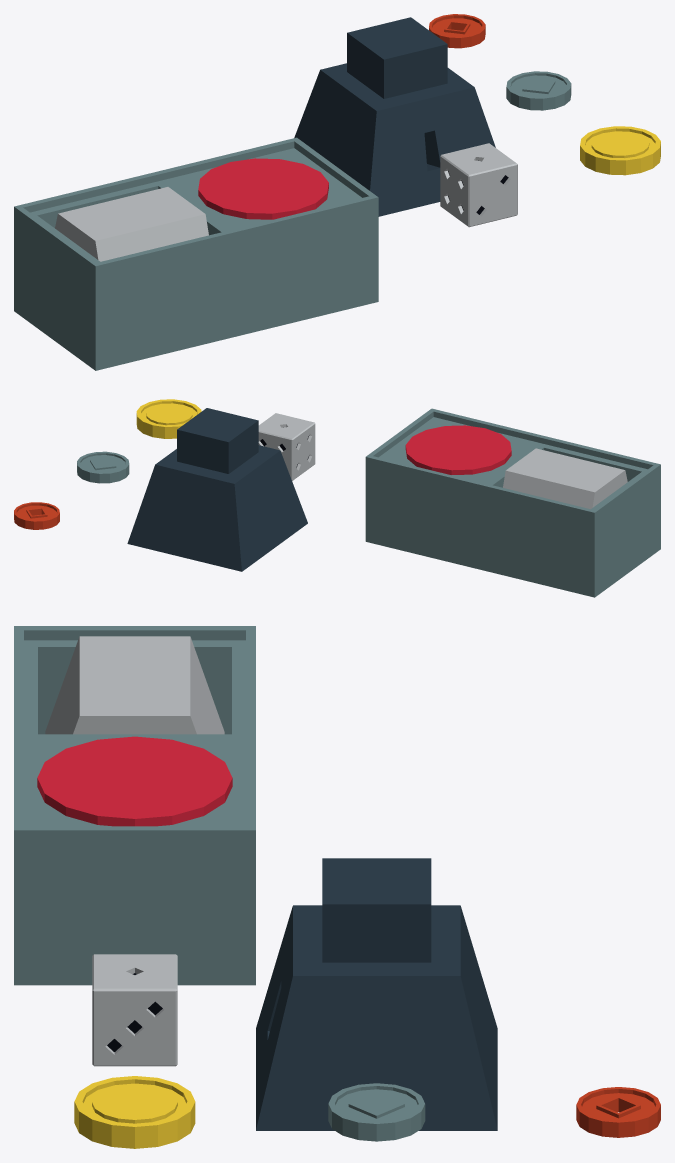
The model's file is props.glb.
The picture shows the model from 3 angles, top to bottom: view 1: azimuth 30°, elevation 25°; view 2: azimuth 150°, elevation 25°; view 3: azimuth 270°, elevation 25°; orthographic projection. The views are drawn at different scales.
Visible parts, largest first — view 1: arcader_a, weight_a, arcader_a_button, dice_a, coin_c, coin_b, coin_a; view 2: arcader_a, weight_a, arcader_a_button, dice_a, coin_c, coin_b, coin_a; view 3: arcader_a, weight_a, arcader_a_button, dice_a, coin_c, coin_b, coin_a.
Boxes of the visible parts, <box> form: arcader_a: <box>14,137,378,370</box>; weight_a: <box>294,17,495,216</box>; arcader_a_button: <box>198,158,328,219</box>; dice_a: <box>440,143,517,227</box>; coin_c: <box>580,126,660,175</box>; coin_b: <box>506,71,571,110</box>; coin_a: <box>429,14,485,48</box>; arcader_a: <box>365,408,660,597</box>; weight_a: <box>127,408,307,571</box>; arcader_a_button: <box>405,425,511,474</box>; dice_a: <box>258,413,315,480</box>; coin_c: <box>136,399,201,438</box>; coin_b: <box>77,451,129,483</box>; coin_a: <box>14,502,59,529</box>; arcader_a: <box>14,626,255,985</box>; weight_a: <box>256,858,497,1130</box>; arcader_a_button: <box>37,736,232,826</box>; dice_a: <box>92,954,177,1066</box>; coin_c: <box>74,1076,195,1148</box>; coin_b: <box>328,1083,425,1141</box>; coin_a: <box>576,1087,660,1137</box>.
Bounding box in the file's own units: 8.5 × 1.88 × 5.35.
1 material, 1 textured.
